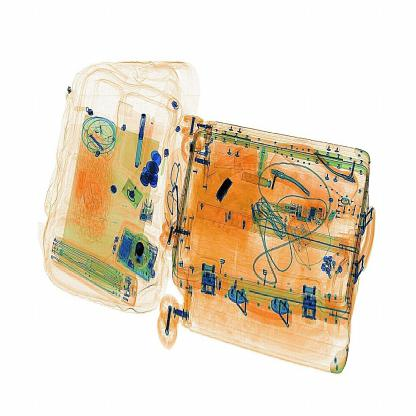scissors: (212, 171, 234, 199)
